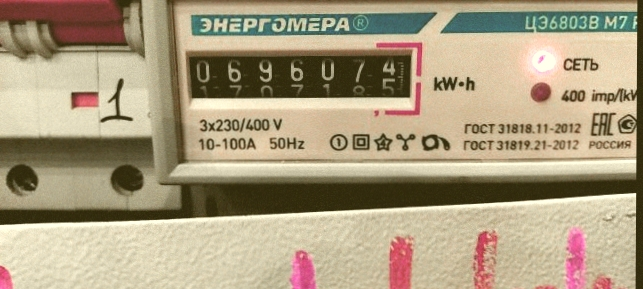0: (193, 57, 211, 83), (319, 55, 335, 81)
4: (381, 55, 395, 76)
5: (381, 77, 395, 96)
6: (224, 57, 242, 82), (288, 55, 304, 82)
7: (350, 56, 366, 83)
9: (256, 57, 273, 83)
screen: (179, 37, 426, 116)
